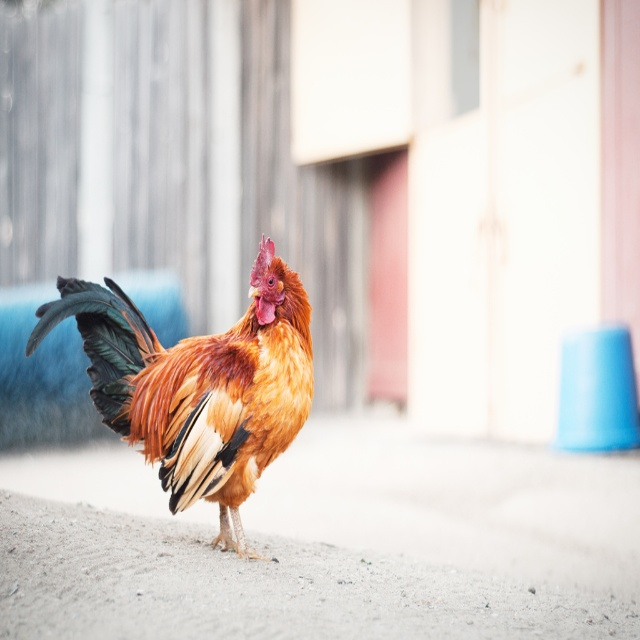Chicken: (27, 249, 316, 557)
